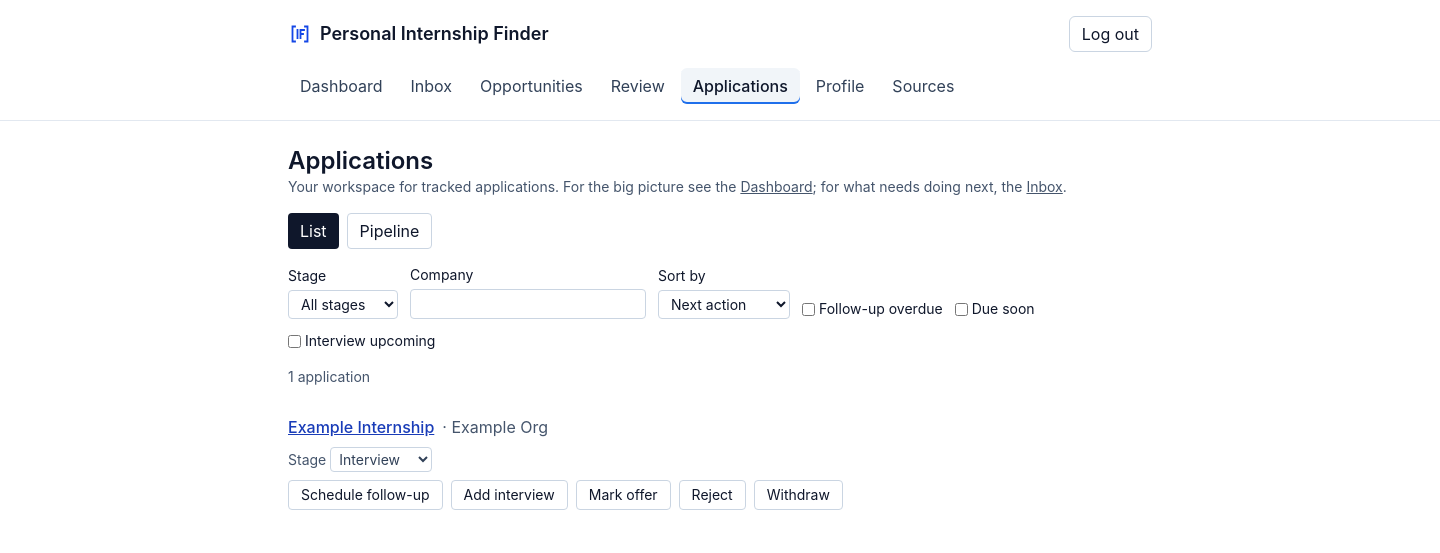
Test: stale-write safety › shows the reload message when the application changed elsewhere
This screenshot has width=1440, height=553.
Select "Rejected" in the dropdown named "Stage for Example Internship" at {"x": 381, "y": 460}, box [330,447,432,472]
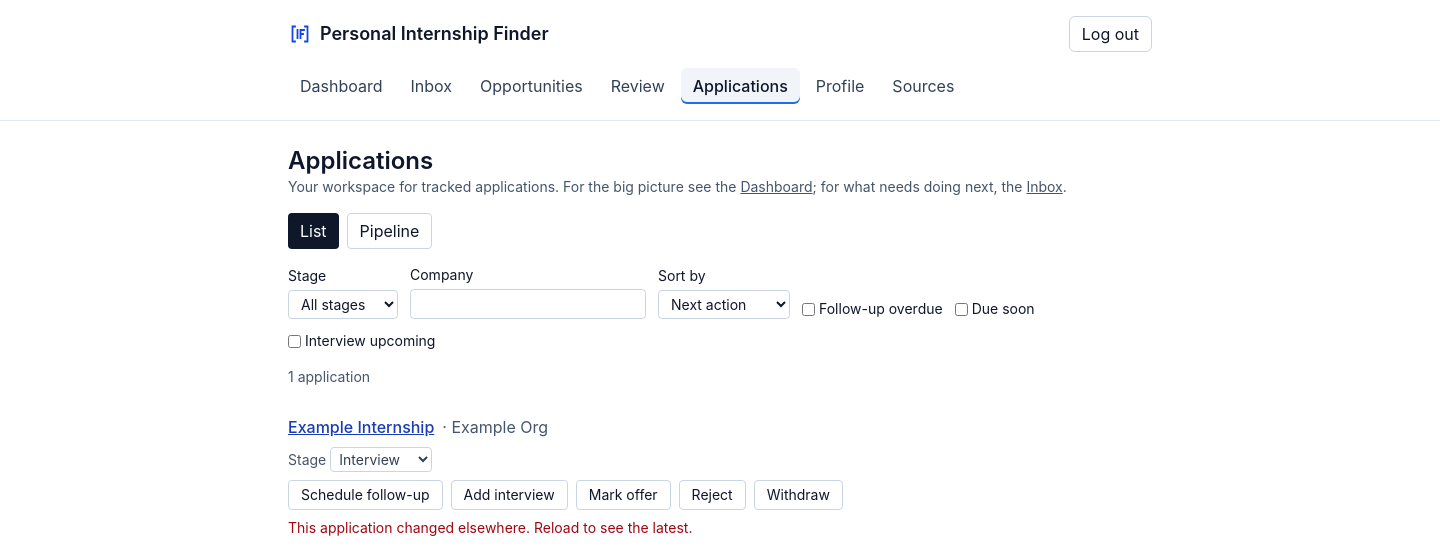
Check: the message shows "changed elsewhere", box [288,519,692,536]
